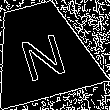N_N: (13, 21, 69, 80)
